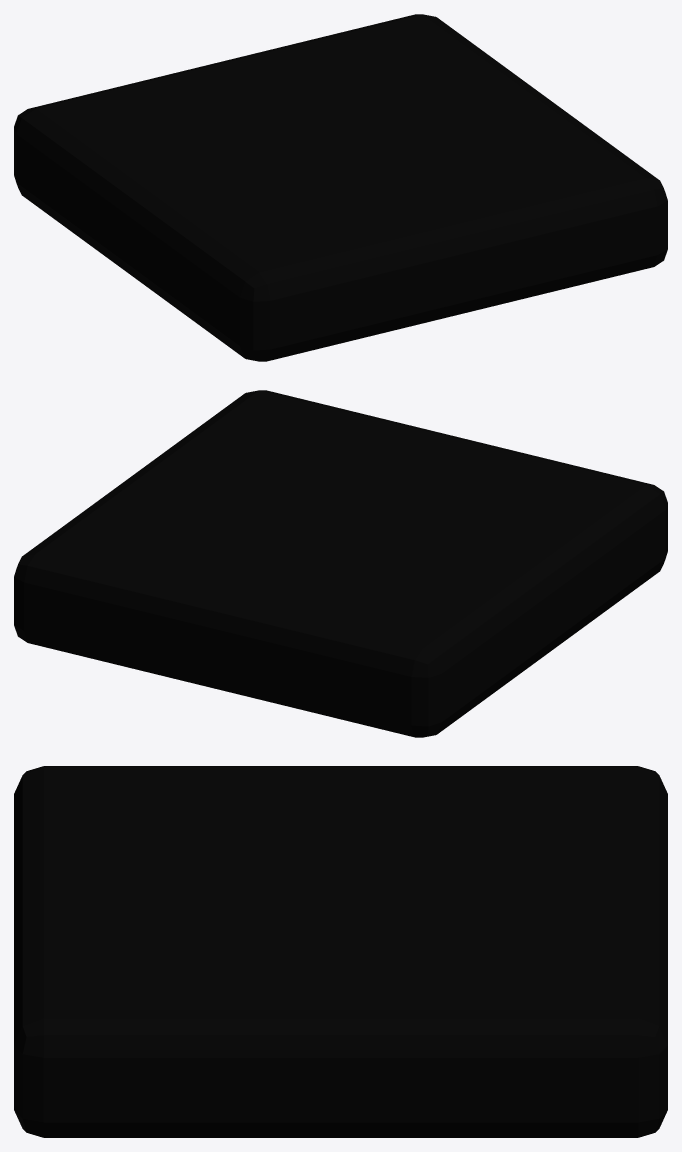
File: Water1.glb
The picture shows the model from 3 angles, top to bottom: view 1: azimuth 30°, elevation 25°; view 2: azimuth 150°, elevation 25°; view 3: azimuth 270°, elevation 25°; orthographic projection. The views are drawn at different scales.
Visible parts, largest first — view 1: node_id5; view 2: node_id5; view 3: node_id5.
Part boxes in pixels (bbox=[...]): node_id5: bbox=[14, 14, 667, 361]; node_id5: bbox=[14, 390, 667, 737]; node_id5: bbox=[14, 766, 667, 1137].
Size of the model in its own units: 0.512 by 0.1024 by 0.512.
1 material, 1 textured.
